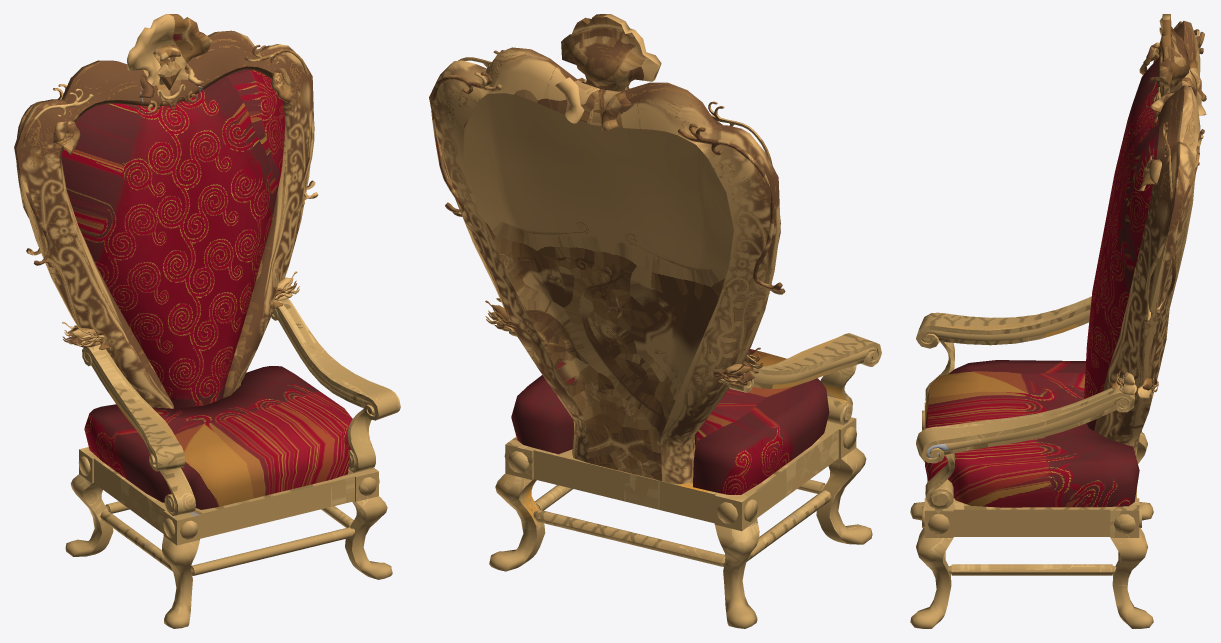
Rendered from alice_in_wonderland_-_red_queens_throne.glb.
The picture shows the model from 3 angles, left to right: view 1: azimuth 30°, elevation 25°; view 2: azimuth 150°, elevation 25°; view 3: azimuth 270°, elevation 25°; orthographic projection. The views are drawn at different scales.
Parts seen in each view (by area): view 1: Throne_obj_cleaner_materialmerger_gles_4; view 2: Throne_obj_cleaner_materialmerger_gles_4; view 3: Throne_obj_cleaner_materialmerger_gles_4.
Part boxes in pixels (x1=…): Throne_obj_cleaner_materialmerger_gles_4: x1=14, y1=14, x2=400, y2=628; Throne_obj_cleaner_materialmerger_gles_4: x1=429, y1=14, x2=881, y2=628; Throne_obj_cleaner_materialmerger_gles_4: x1=910, y1=14, x2=1206, y2=628.
Size of the model in its own units: 1.85 by 3 by 1.46.
Materials: 3 (3 with a texture image).
